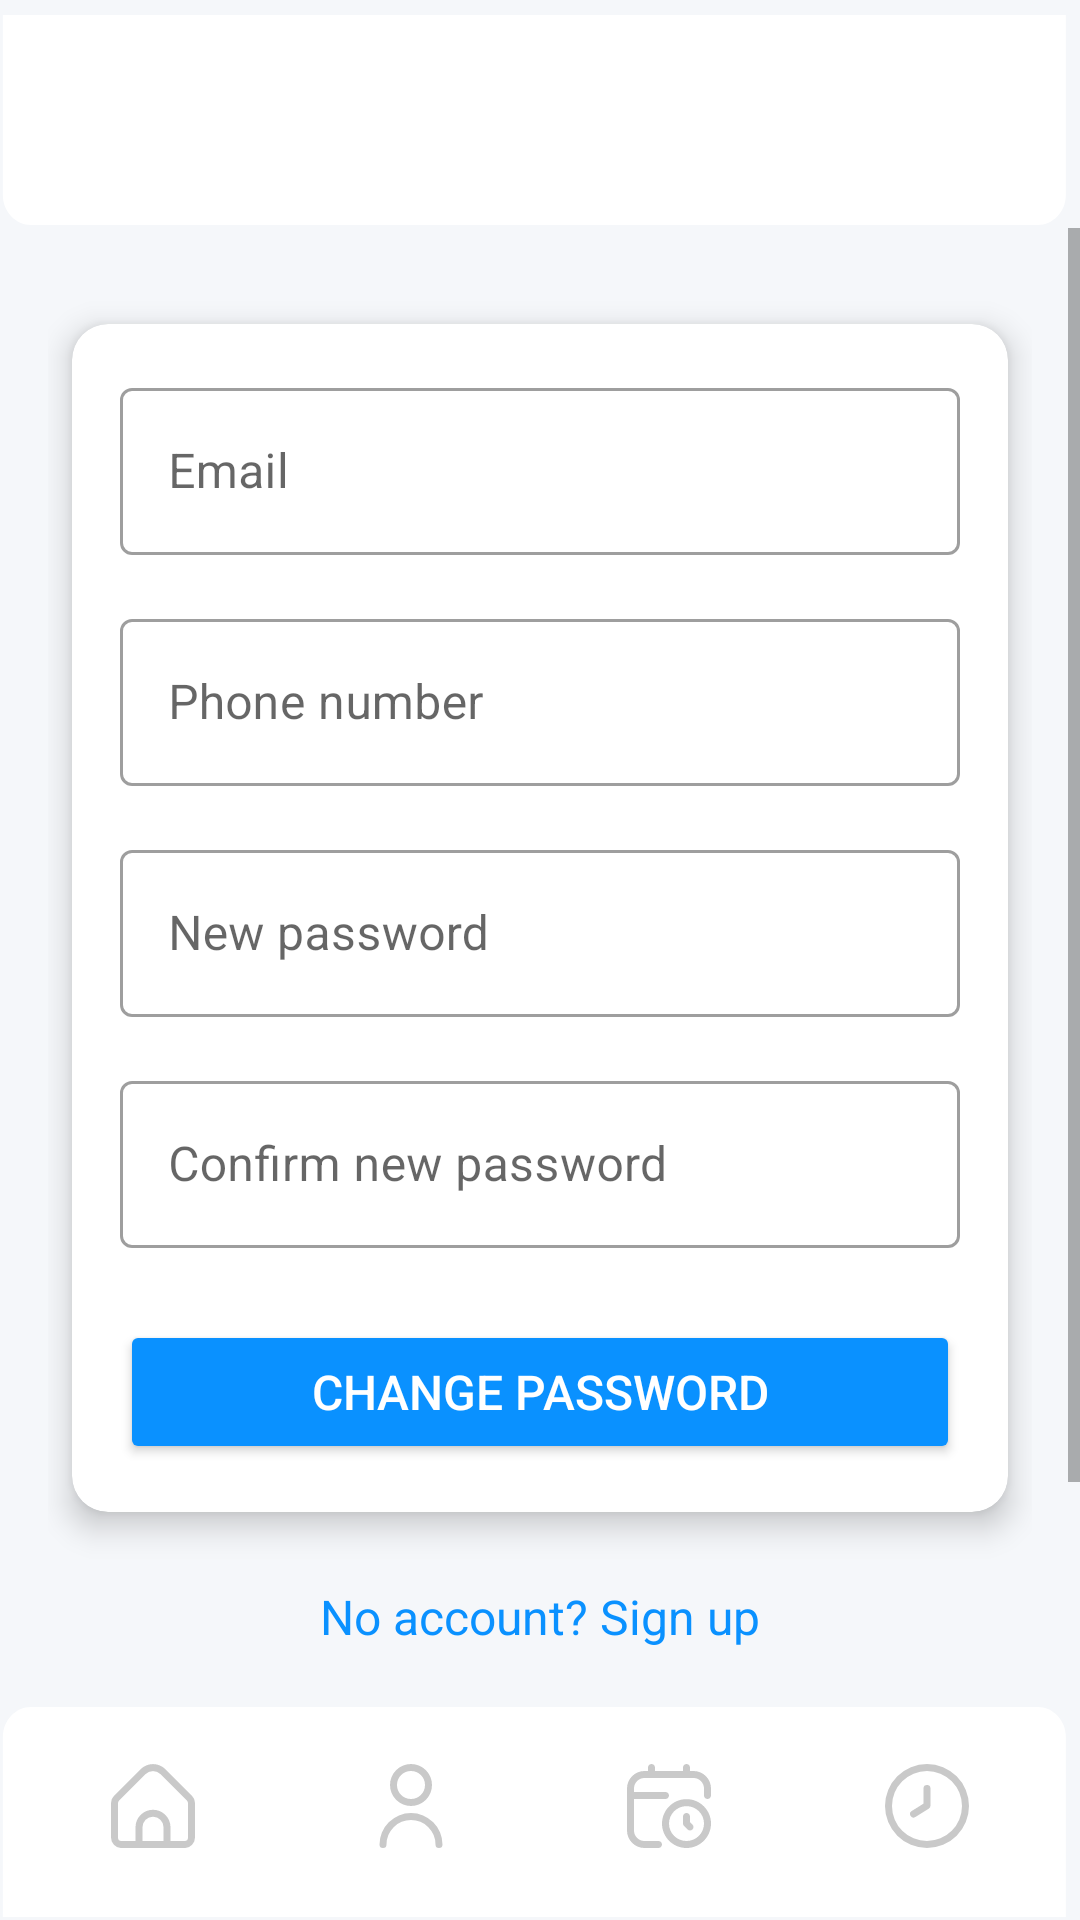

Icons on this 1080w x 1920h Android screen, each with the point to tap as [x,y]:
calendar clock: [669,1806]
clock: [927,1806]
home: [153,1806]
user: [411,1806]
